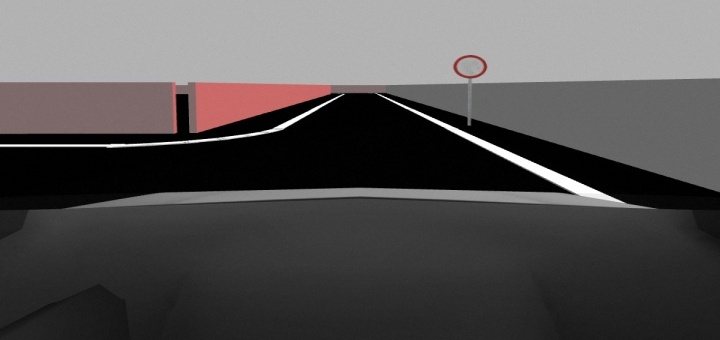girilmez: (452, 54, 490, 83)
